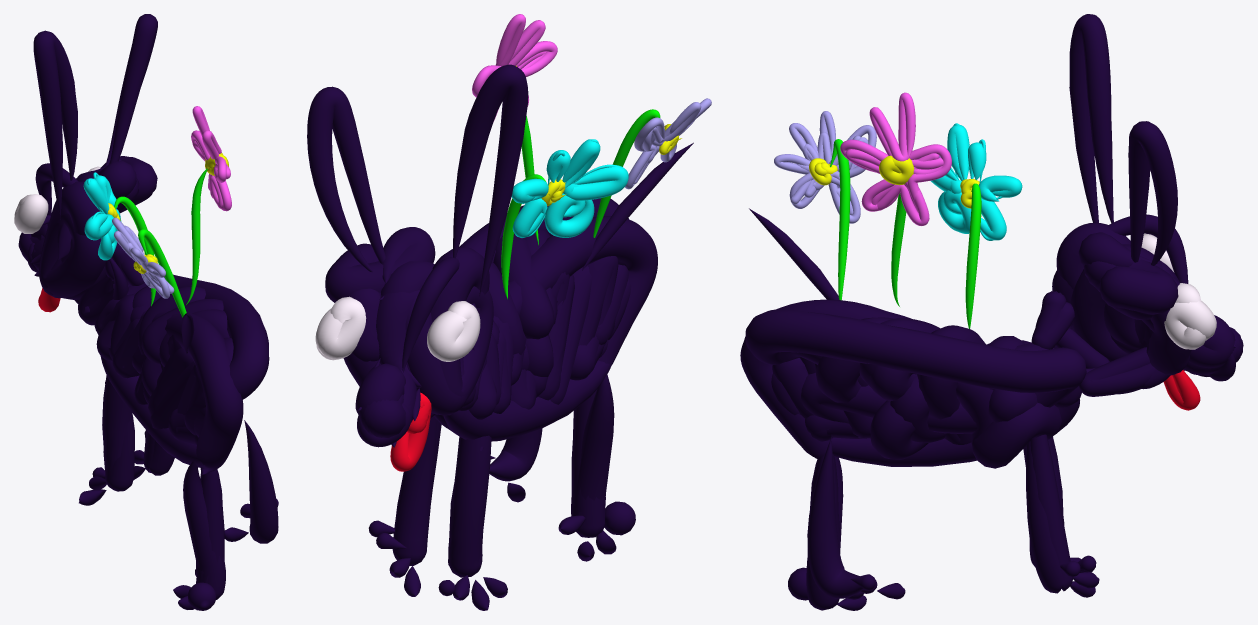
The model's file is pup.glb.
3 views of the same model, side by side, from view 1: azimuth 30°, elevation 25°; view 2: azimuth 150°, elevation 25°; view 3: azimuth 270°, elevation 25° (orthographic). The views are drawn at different scales.
Visible parts, largest first — view 1: pup; view 2: pup; view 3: pup.
Part boxes in pixels (left/top/right/bottom): pup: left=14, top=14, right=278, bottom=610; pup: left=307, top=14, right=711, bottom=610; pup: left=740, top=14, right=1243, bottom=610.
Size of the model in its own units: 0.2285 by 0.5921 by 0.4698.
Materials: 1 (1 with a texture image).
